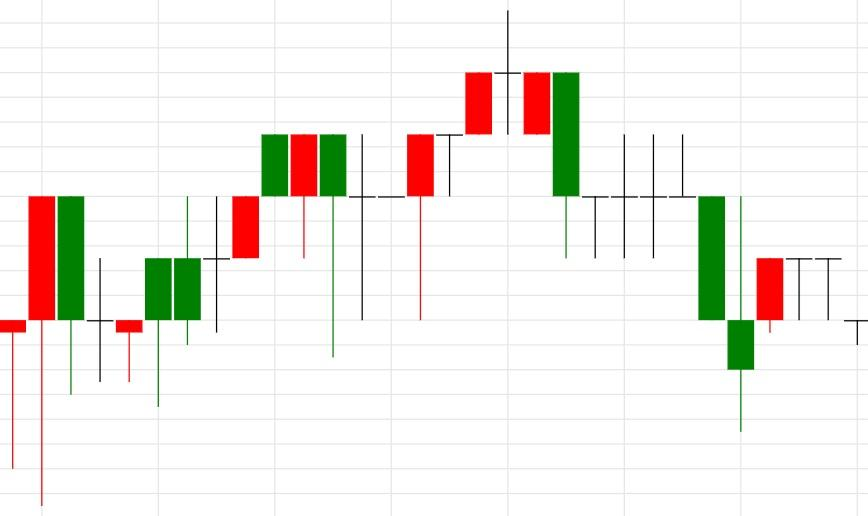evening_star_fall: (319, 11, 552, 357)
